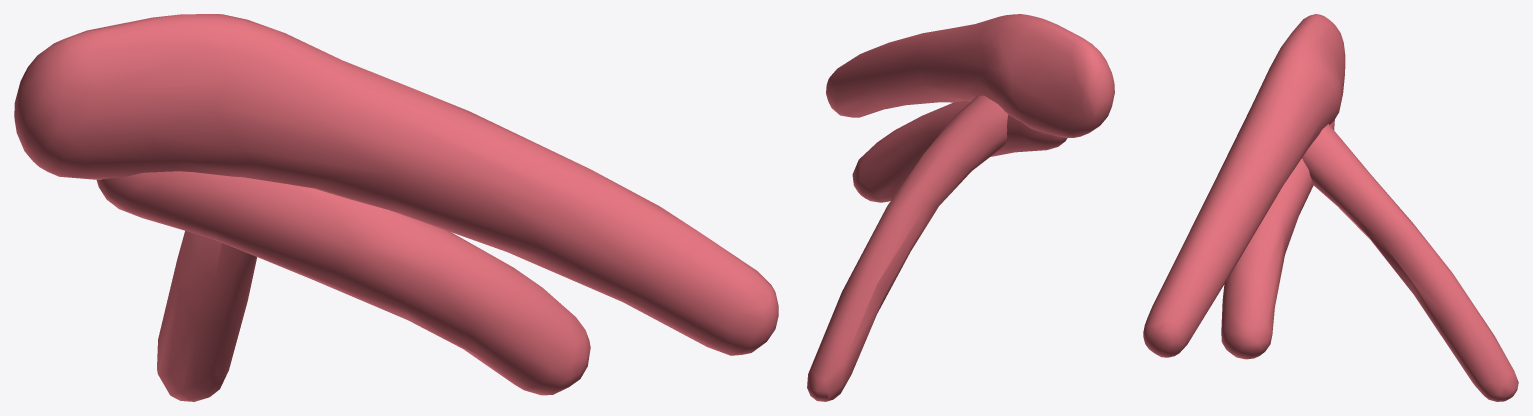
Rendered from fma50306_cx88.glb.
3 views of the same model, side by side, from view 1: azimuth 30°, elevation 25°; view 2: azimuth 150°, elevation 25°; view 3: azimuth 270°, elevation 25° (orthographic). The views are drawn at different scales.
Visible parts, largest first — view 1: FMA50306_CX88; view 2: FMA50306_CX88; view 3: FMA50306_CX88.
Part boxes in pixels (box(x1,y1,x2,y2)): FMA50306_CX88: box(14, 14, 778, 401); FMA50306_CX88: box(807, 14, 1114, 401); FMA50306_CX88: box(1143, 14, 1518, 401).
Bounding box in the file's own units: 0.0401 × 0.0347 × 0.0376.
